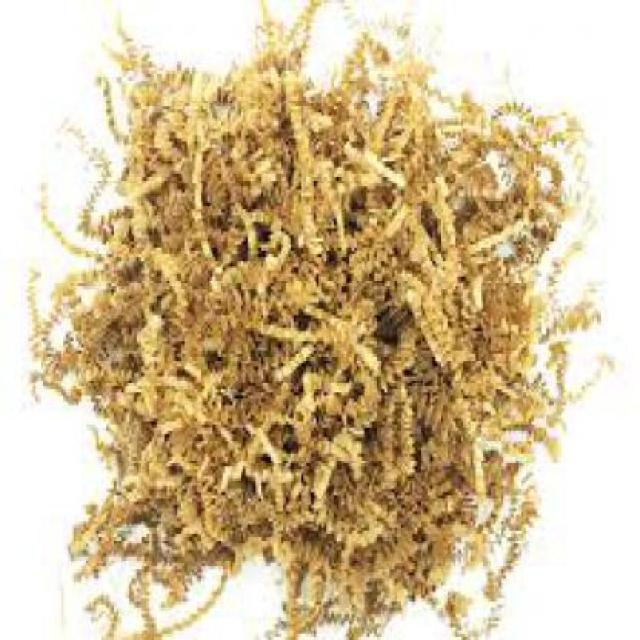paper: (28, 0, 609, 637)
